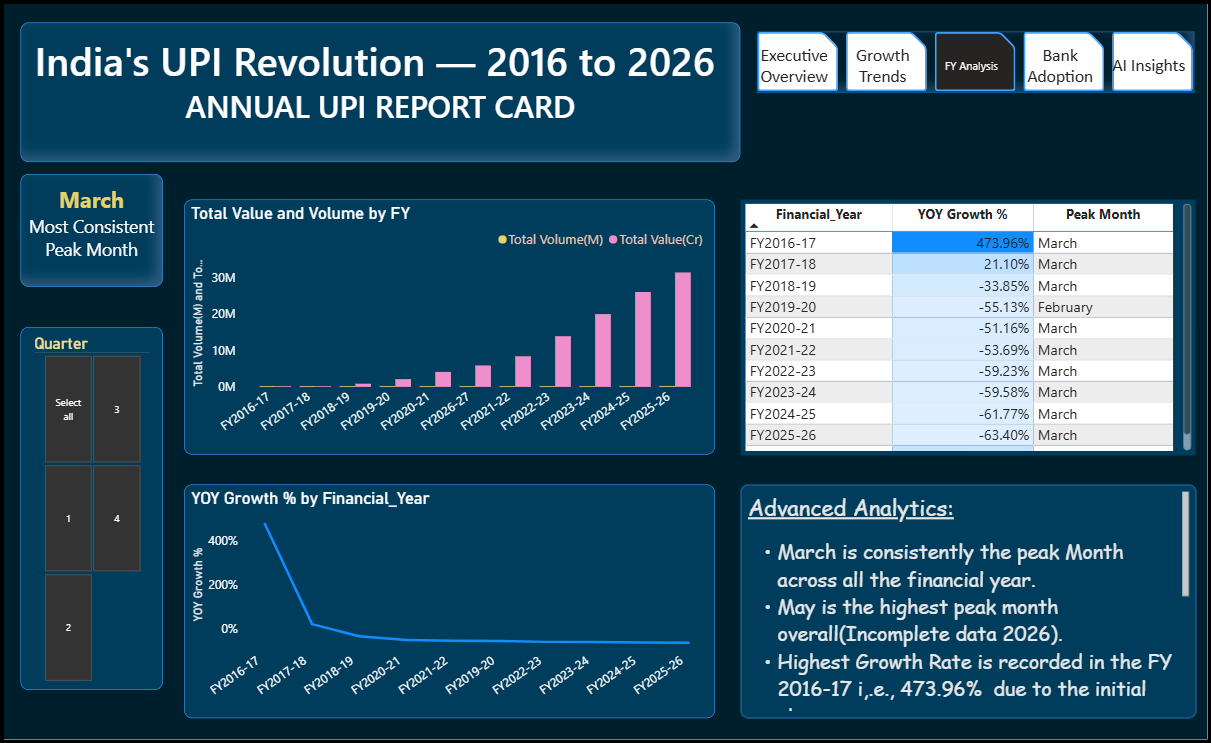

What the dashboard file says about the page in this screenshot:
{"tool":"powerbi","page":{"name":"FY Analysis","canvas":[1470,900],"ordinal":2},"visuals":[{"type":"textbox","box":[20.9,23.3,876.9,169.8],"z":0},{"type":"clusteredColumnChart","title":"Total Value and Volume by FY","fields":{"Category":["upi_transactions.Financial_Year"],"Y":["-Measures.Total Volume","-Measures.Total Value"]},"box":[219.2,239.3,646.7,310.6],"z":1000},{"type":"lineChart","fields":{"Category":["upi_transactions.Financial_Year"],"Y":["-Measures.YOY Growth %"]},"box":[219.2,586.4,646.7,285],"z":2000},{"type":"tableEx","fields":{"Values":["upi_transactions.Financial_Year","-Measures.YOY Growth %","-Measures.Peak Month"]},"box":[897,239.3,553.5,310.6],"z":3000},{"type":"textbox","box":[897,586.4,555.4,285],"z":4000},{"type":"slicer","fields":{"Values":["upi_transactions.Quarter"]},"box":[20.1,394.6,173.5,442.1],"z":5000},{"type":"pageNavigator","box":[916.4,34.9,532.6,74.4],"z":6000},{"type":"textbox","box":[20.1,208.3,173.5,137],"z":7000}]}

Visuals, with their boxes in screenshot pixels (x1, y1, x2, y2), scaled from the page's 1470x900 canvas onto the 1211x743 screenshot:
textbox: Rect(17, 19, 740, 159)
"Total Value and Volume by FY" clusteredColumnChart: Rect(181, 198, 713, 454)
lineChart - upi_transactions.Financial_Year x -Measures.YOY Growth %: Rect(181, 484, 713, 719)
tableEx - upi_transactions.Financial_Year x -Measures.YOY Growth %: Rect(739, 198, 1195, 454)
textbox: Rect(739, 484, 1197, 719)
slicer - upi_transactions.Quarter: Rect(17, 326, 159, 691)
pageNavigator: Rect(755, 29, 1194, 90)
textbox: Rect(17, 172, 159, 285)
